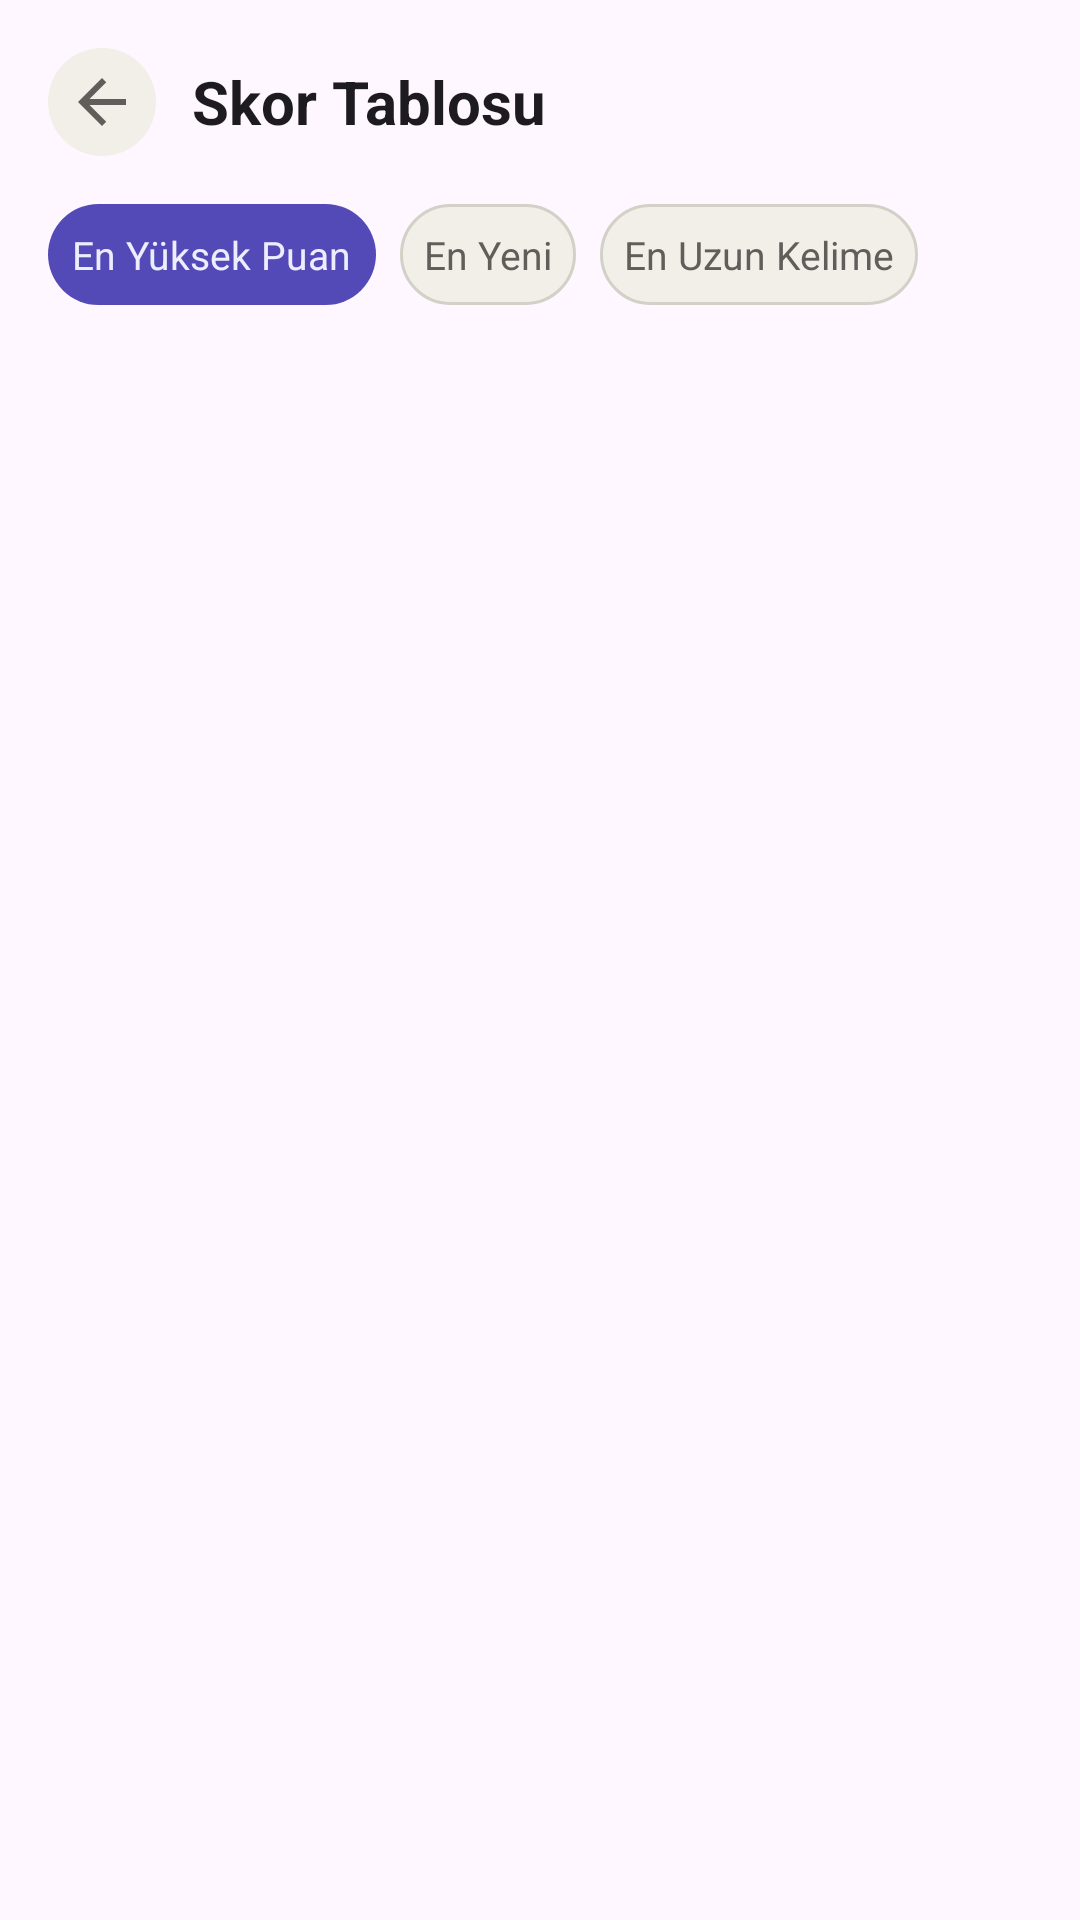

Screen size 1080 × 1920. Icon name, then its center in pixels as [x,y]:
Geri: [102,102]
